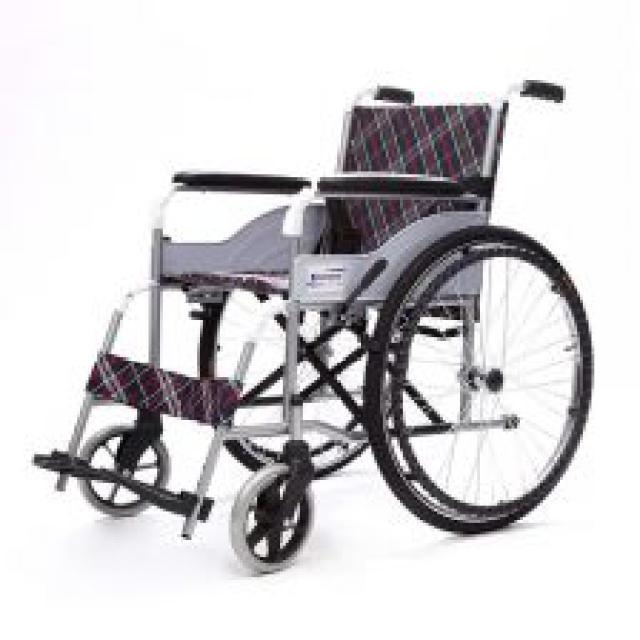wheelchair: (2, 54, 614, 572)
